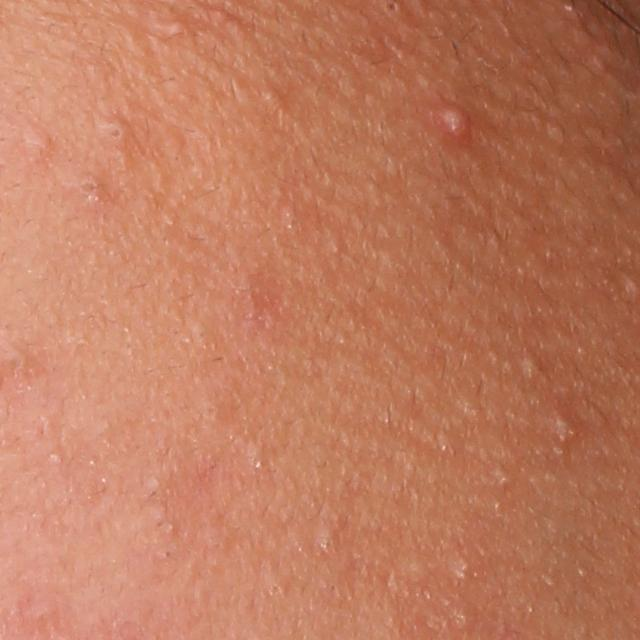comedo: (23, 125, 53, 165), (311, 525, 341, 561), (73, 171, 99, 202), (258, 82, 289, 107), (99, 120, 131, 144), (519, 352, 542, 379), (491, 464, 512, 489), (165, 19, 186, 35), (45, 450, 65, 466)
papule: (436, 98, 472, 139)
